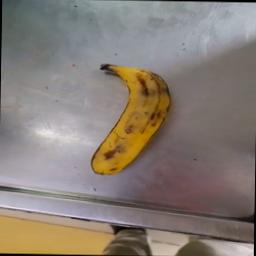Banana Overripe: (82, 56, 178, 178)
